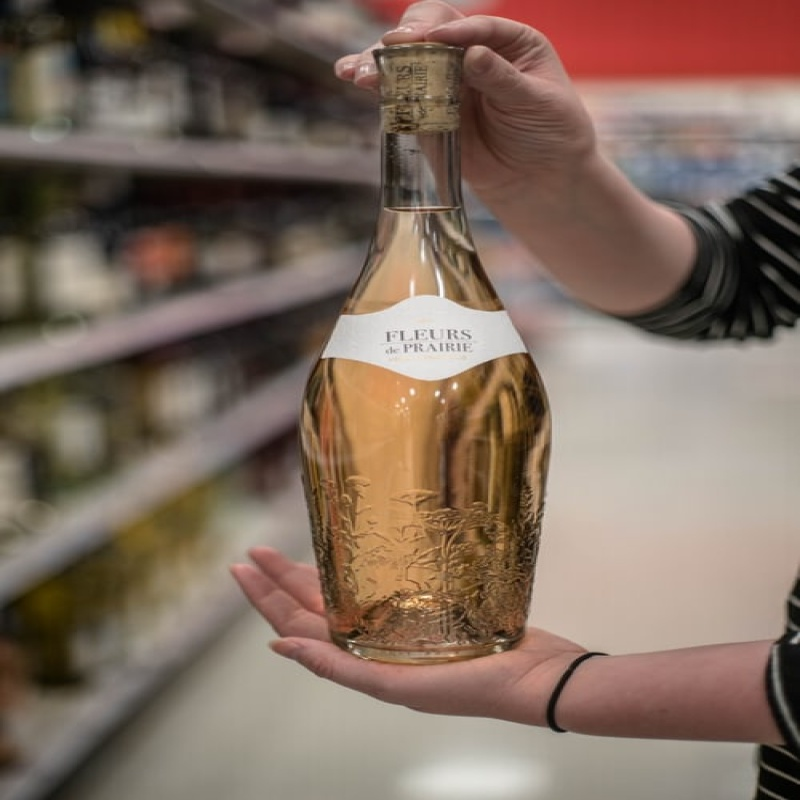wine: (291, 44, 556, 657)
